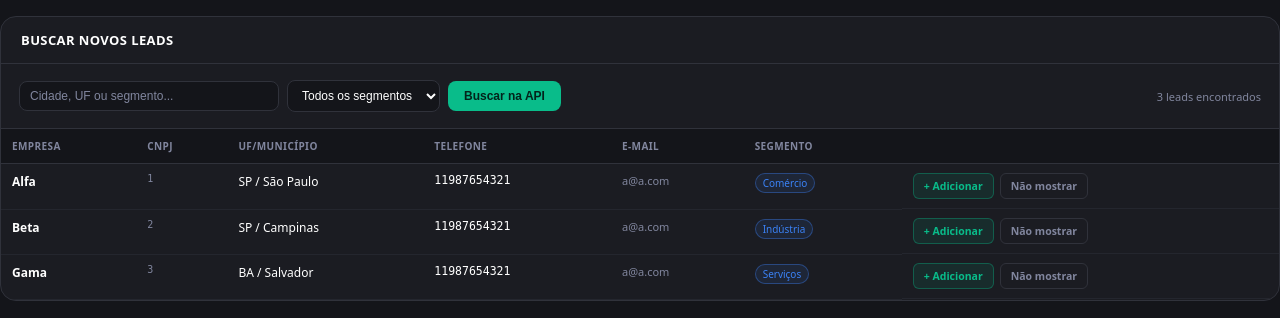
it: NewLeadsTable › filtra por texto (município) case-insensitive
In the field with placeholder "Cidade, UF ou segmento...": (149, 96) [19,81,279,111], type "campinas"
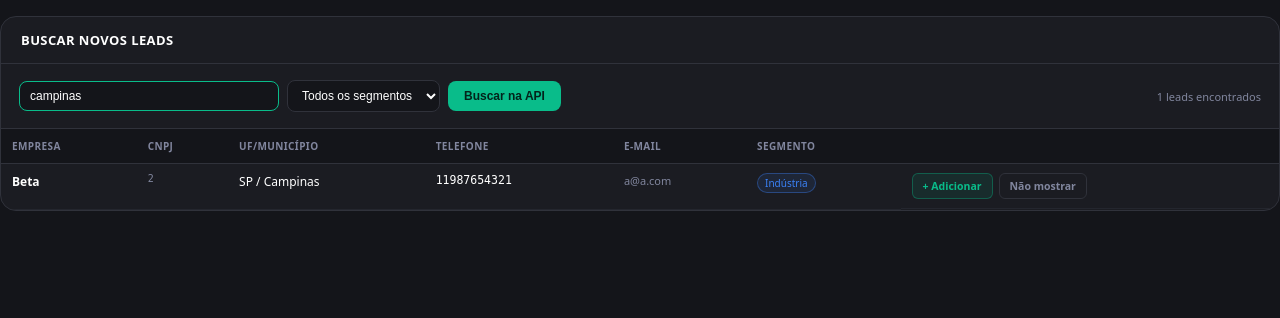
Result: the text "Alfa" is gone
Result: the text "Gama" is gone
Result: the text "1 leads encontrados" is shown at [1157,88,1261,104]
